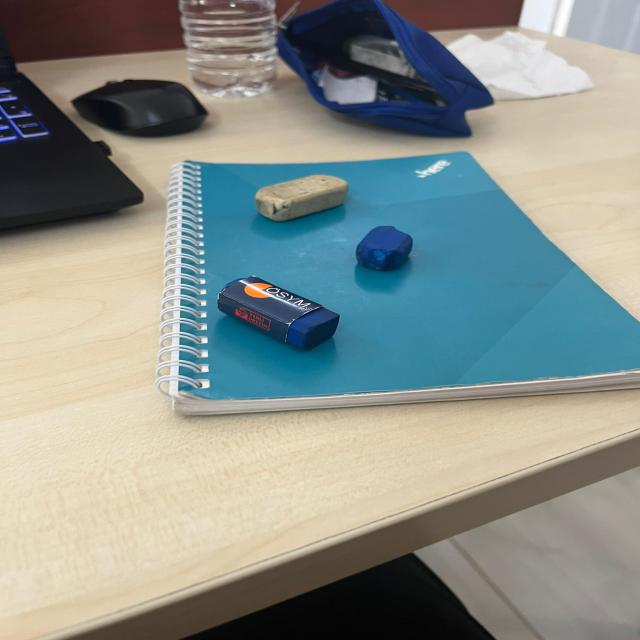eraser: (212, 273, 354, 352), (242, 171, 366, 227), (350, 221, 434, 275)
